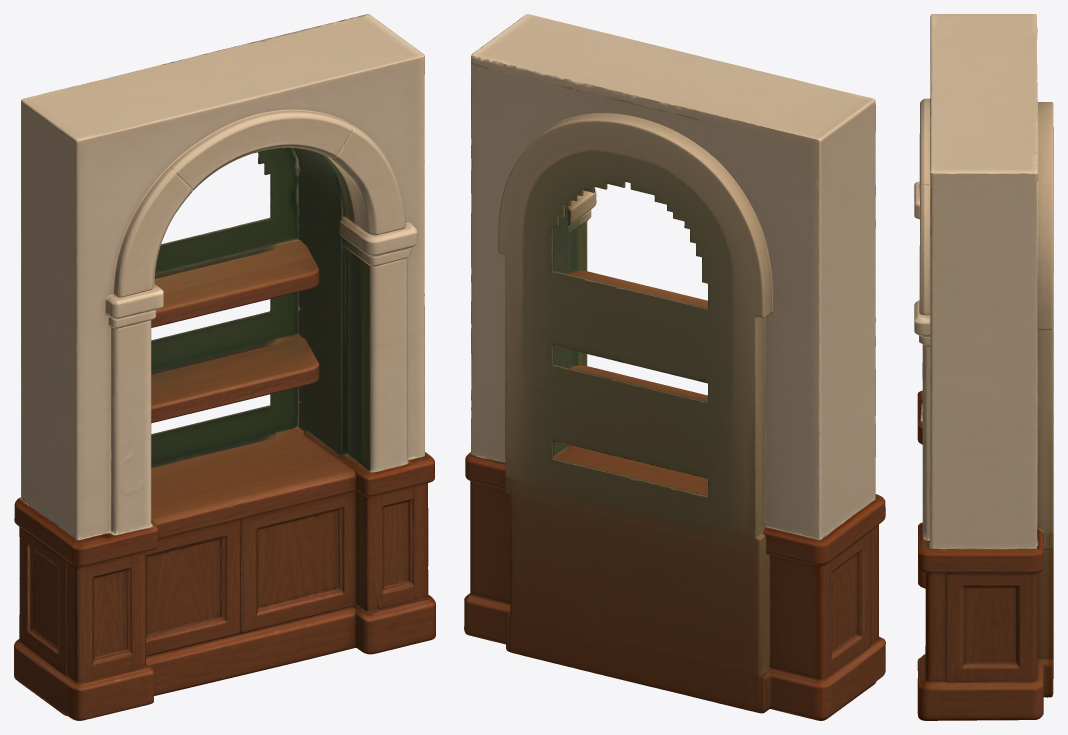
The model's file is 01 niche.glb.
The picture shows the model from 3 angles, left to right: view 1: azimuth 30°, elevation 25°; view 2: azimuth 150°, elevation 25°; view 3: azimuth 270°, elevation 25°; orthographic projection. The views are drawn at different scales.
Parts seen in each view (by area): view 1: tripo_node_366e76d8-00cb-4335-b868-481b5c30fd9b; view 2: tripo_node_366e76d8-00cb-4335-b868-481b5c30fd9b; view 3: tripo_node_366e76d8-00cb-4335-b868-481b5c30fd9b.
Part boxes in pixels (x1,y1,x2,y2): tripo_node_366e76d8-00cb-4335-b868-481b5c30fd9b: [14, 14, 435, 720]; tripo_node_366e76d8-00cb-4335-b868-481b5c30fd9b: [464, 14, 885, 720]; tripo_node_366e76d8-00cb-4335-b868-481b5c30fd9b: [914, 14, 1053, 720].
Bounding box in the file's own units: 0.6457 × 0.9804 × 0.2271.
1 material, 1 textured.
